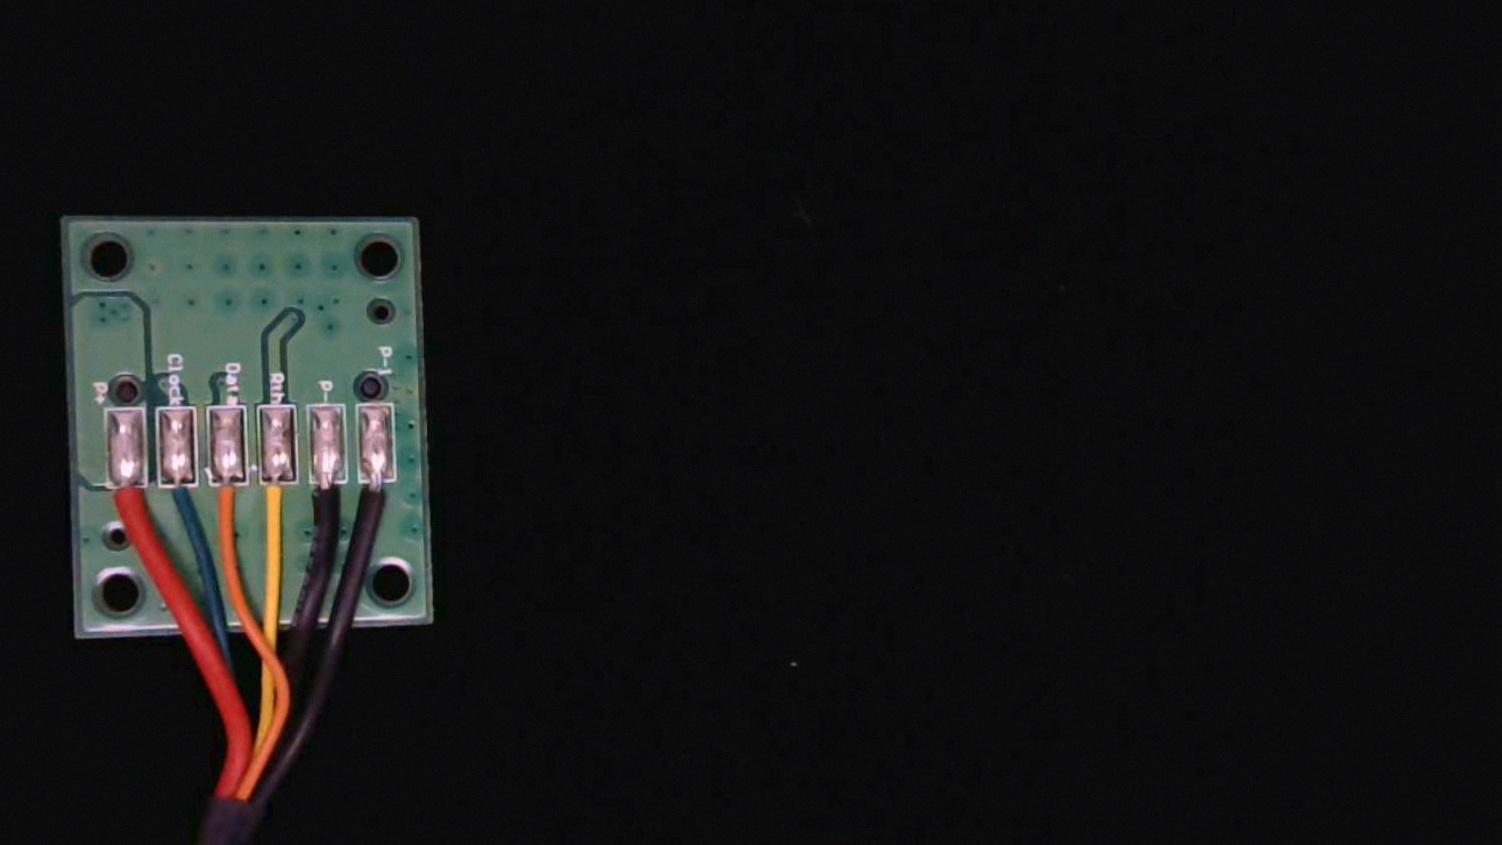Black: (307, 459, 345, 543)
Black1: (360, 459, 401, 542)
Green: (155, 462, 201, 544)
Orange: (207, 462, 249, 551)
Red: (103, 461, 148, 548)
Yellow: (254, 457, 298, 549)
